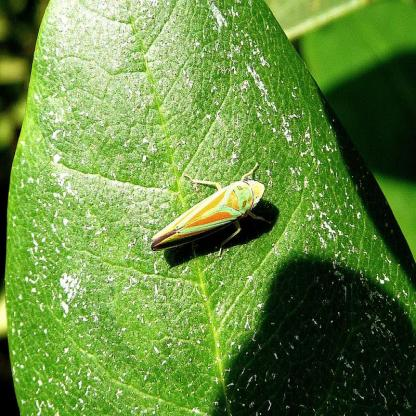Green-Leafhopper: (145, 166, 268, 256)
